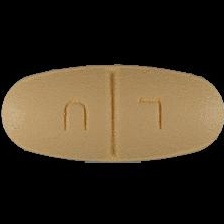49349-779: (0, 0, 224, 224)
